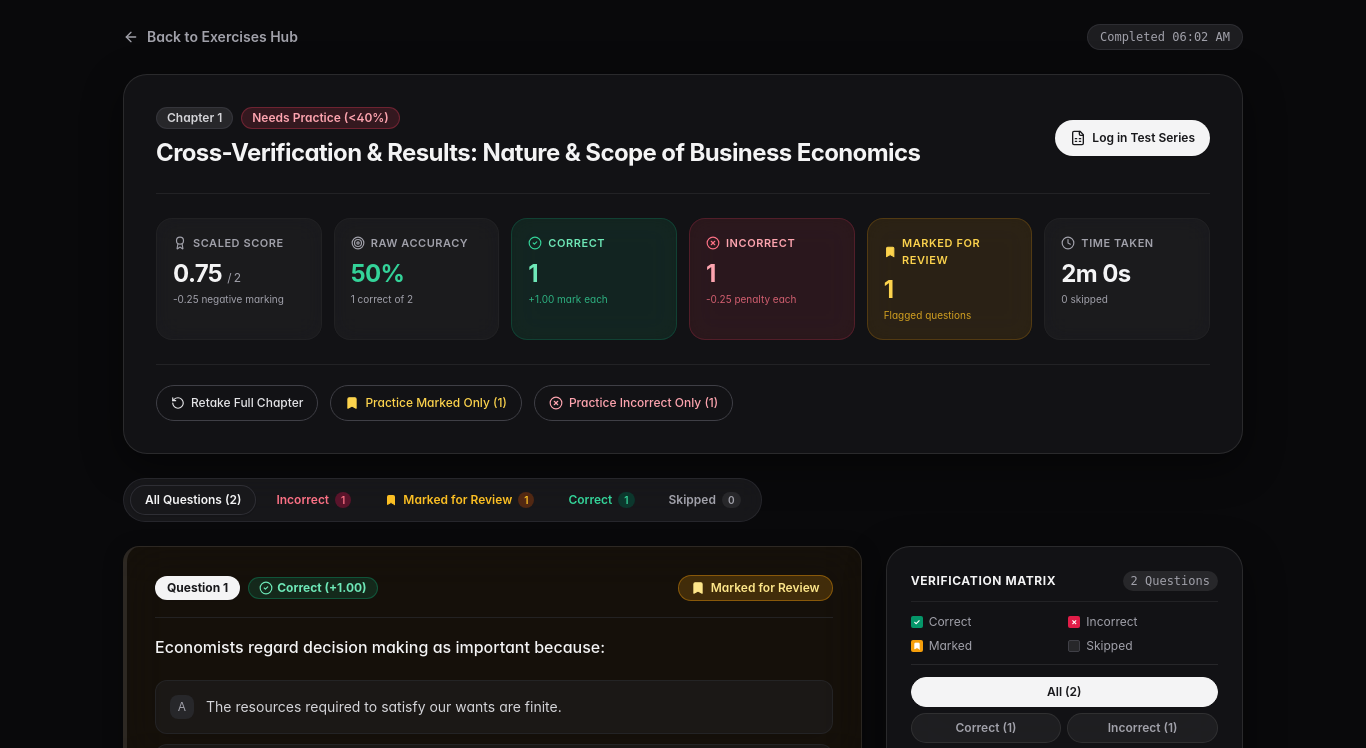
Exercise Session Flow and UI Interactions › renders CrossVerificationReview with visible marked-for-review status and solution explanations
The image size is (1366, 748).
Expected: the text "0.75 / 2" is shown, [173,258,240,288]
Expected: the text "50%" is shown, [351,258,404,288]
# Filter by Marked for Review
Click the button with aria-label "Filter: Marked for Review".
click(460, 500)  # box [371,486,548,514]
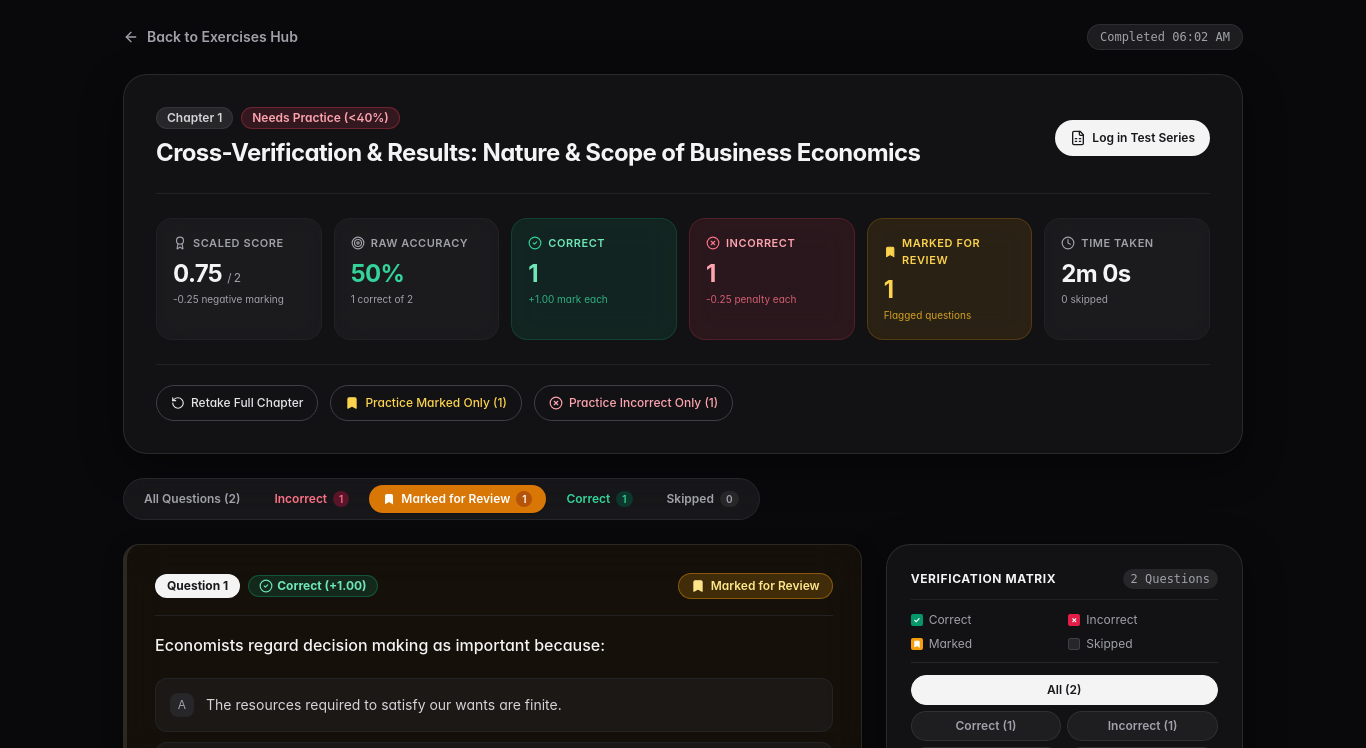
Expected: the text "Economists regard decision making as important because:" is shown, [155,635,605,655]
# Toggle marked for review on Q1 from the review screen
Click the button with aria-label "Unmark question from review".
click(755, 586)  # box [678,573,833,599]
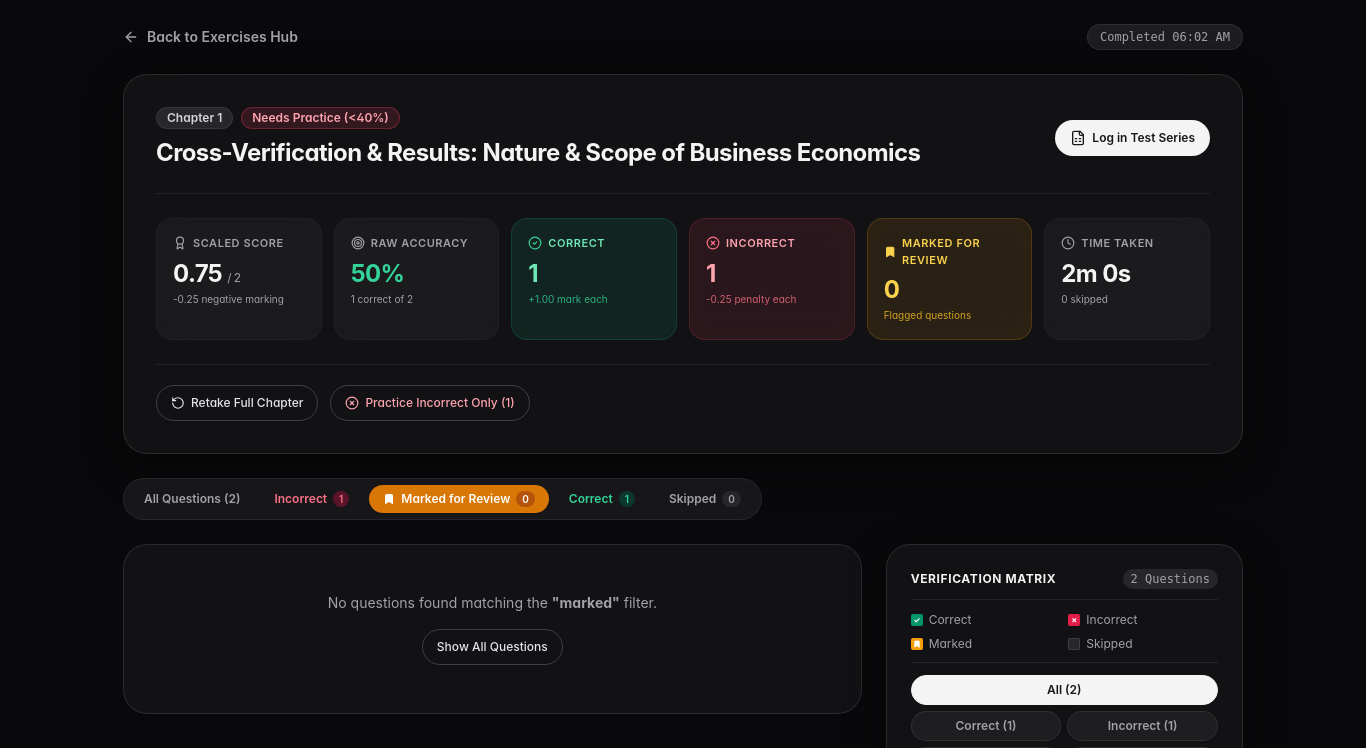
Result: the text "No questions found matching the \"marked\" filter." is shown at [328,594,657,611]
